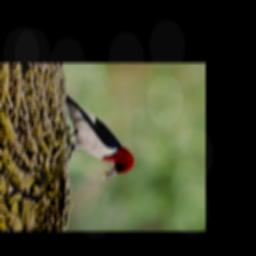Woodpecker: (66, 96, 135, 179)
